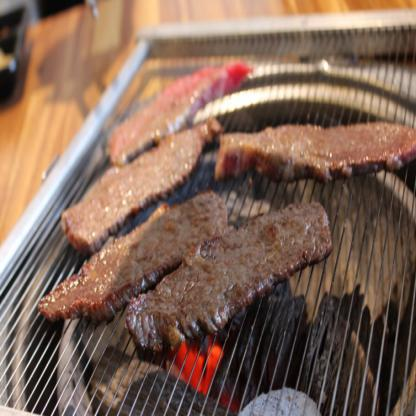Carne: (128, 200, 352, 354), (41, 186, 230, 336), (54, 113, 221, 252), (211, 110, 416, 193)
